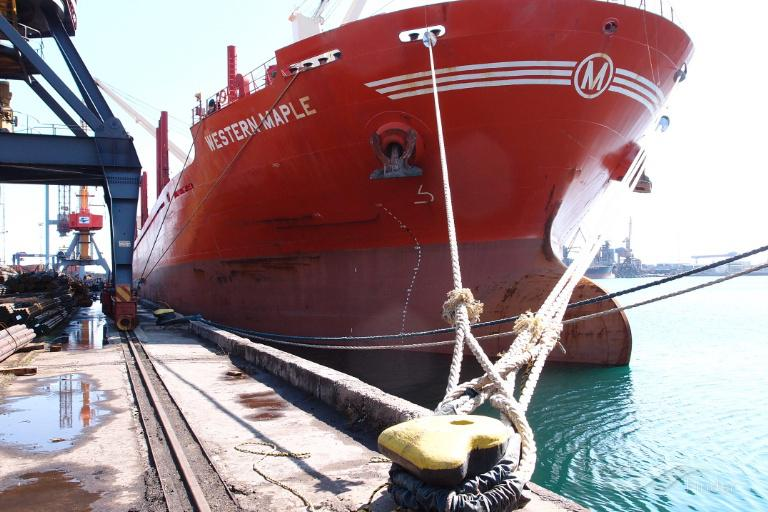OCR: (196, 84, 328, 153)
